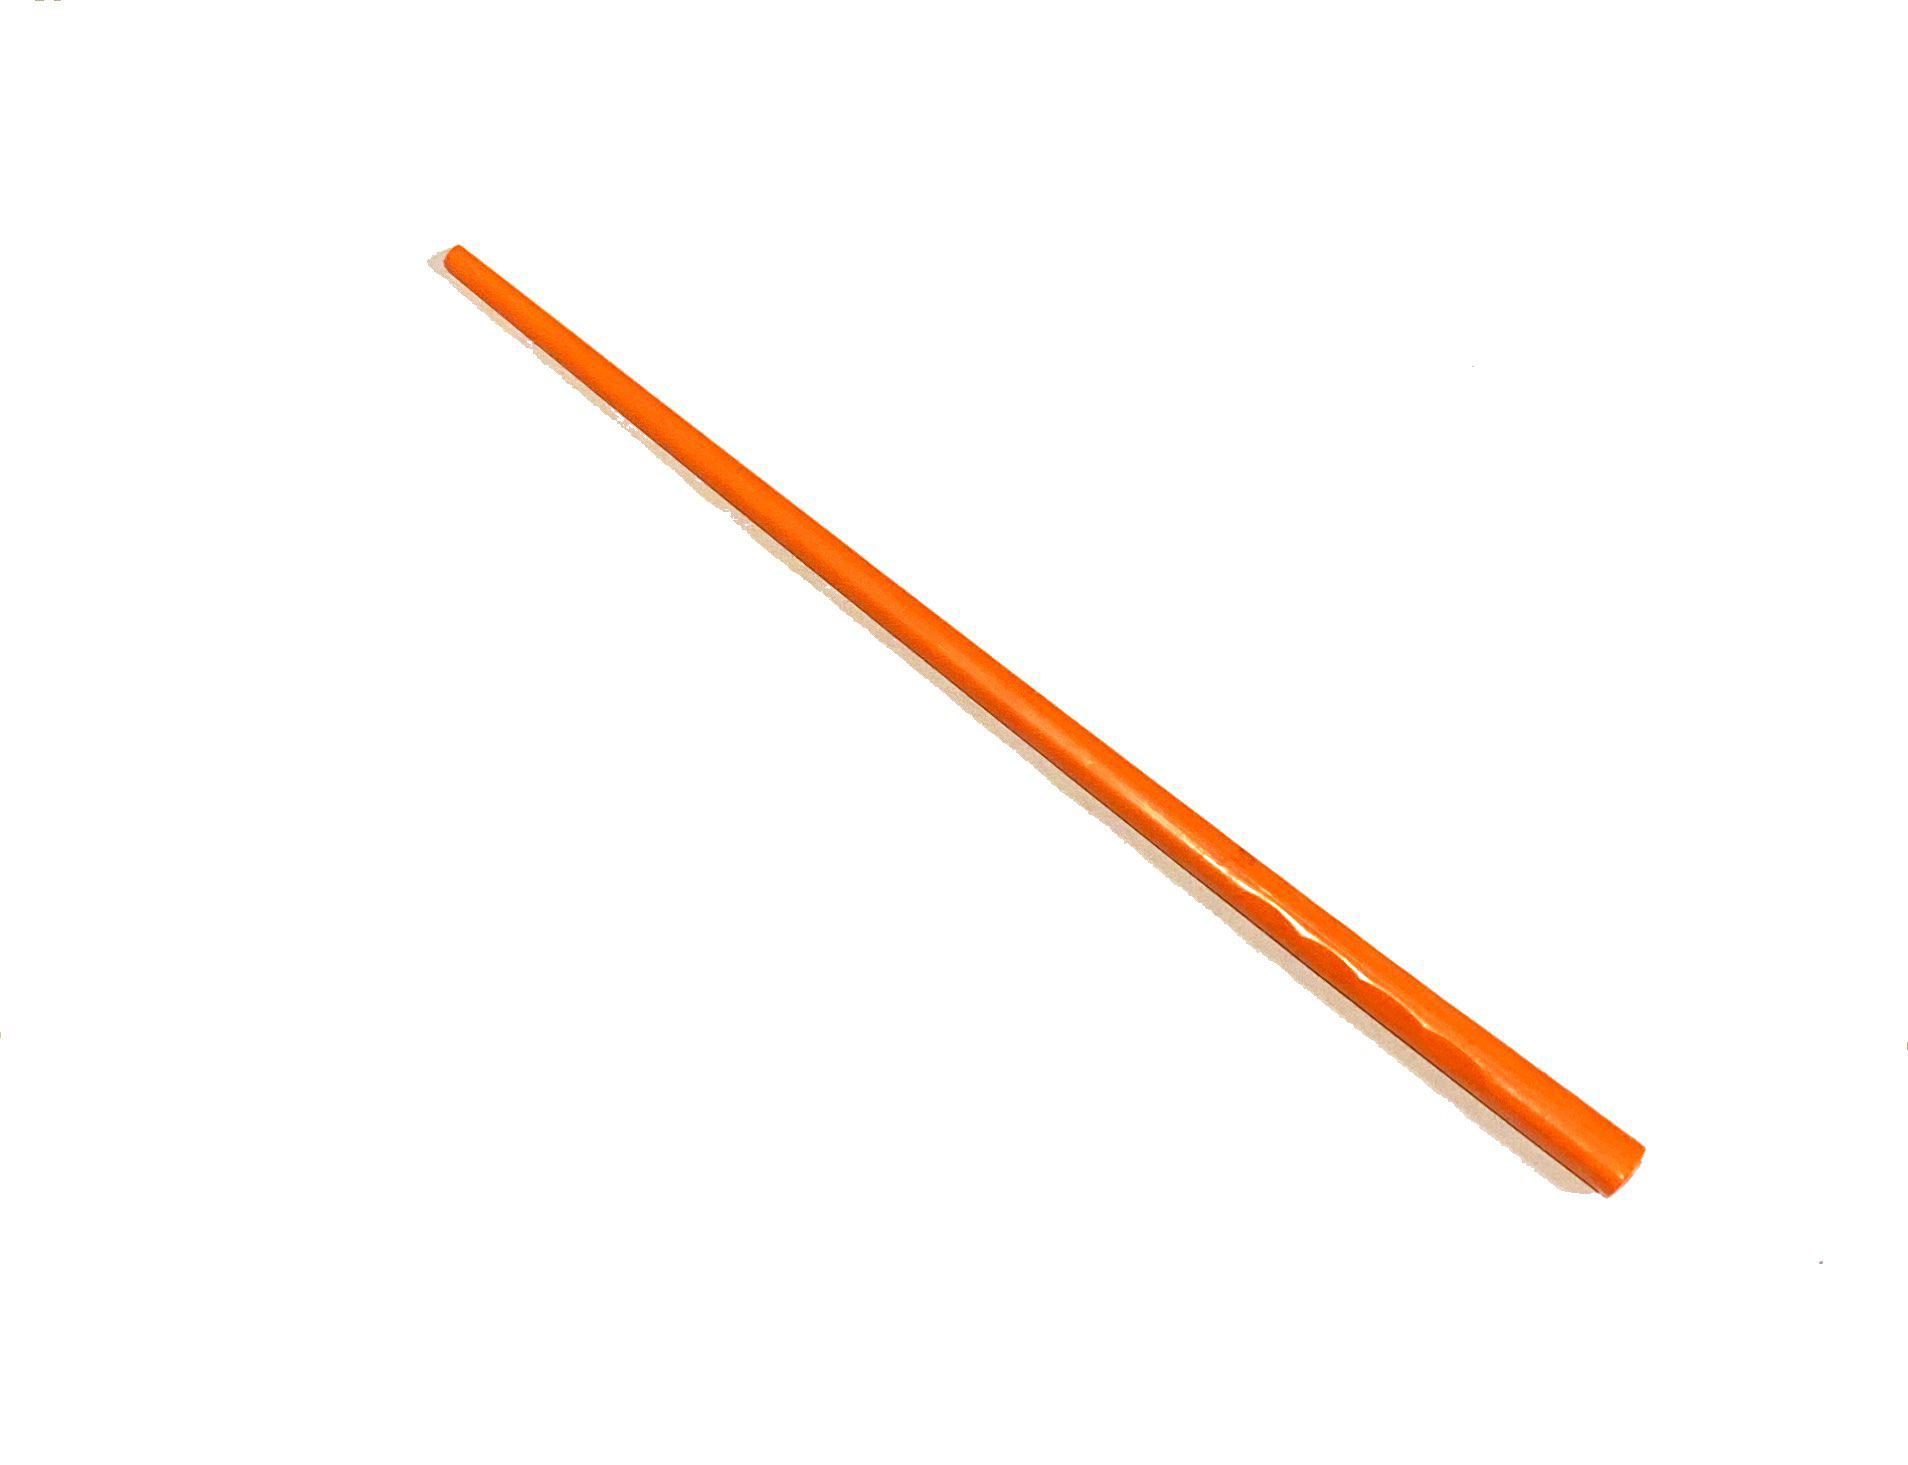Chopstick: (408, 191, 1726, 1302)
